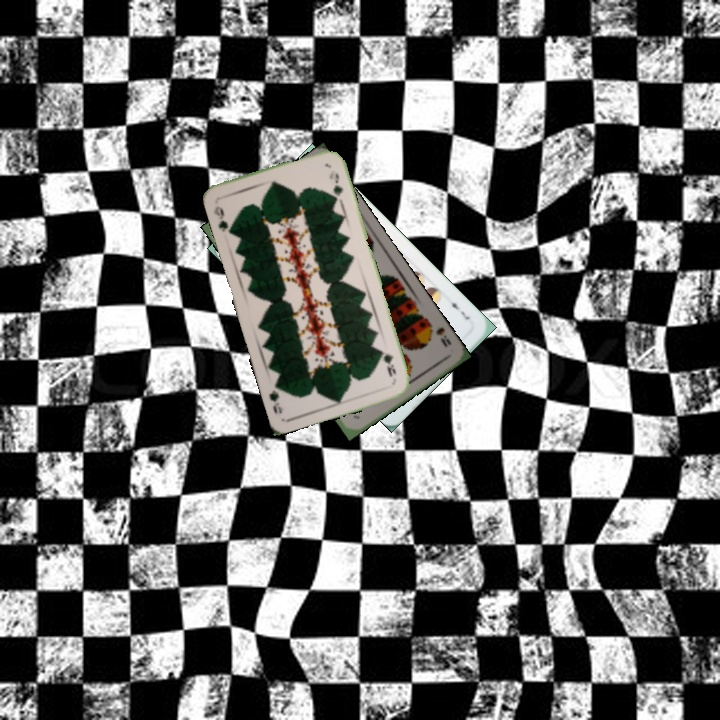E7: (445, 294, 473, 323)
G9: (210, 202, 235, 236), (377, 346, 399, 380)
S9: (424, 317, 454, 350)
